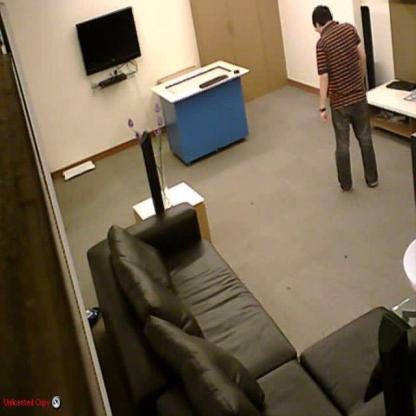Person: (312, 5, 378, 192)
